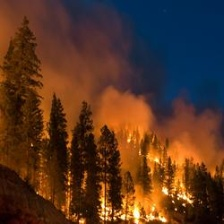fire: (100, 188, 168, 224), (153, 153, 195, 201)
smoke: (48, 16, 186, 125)
